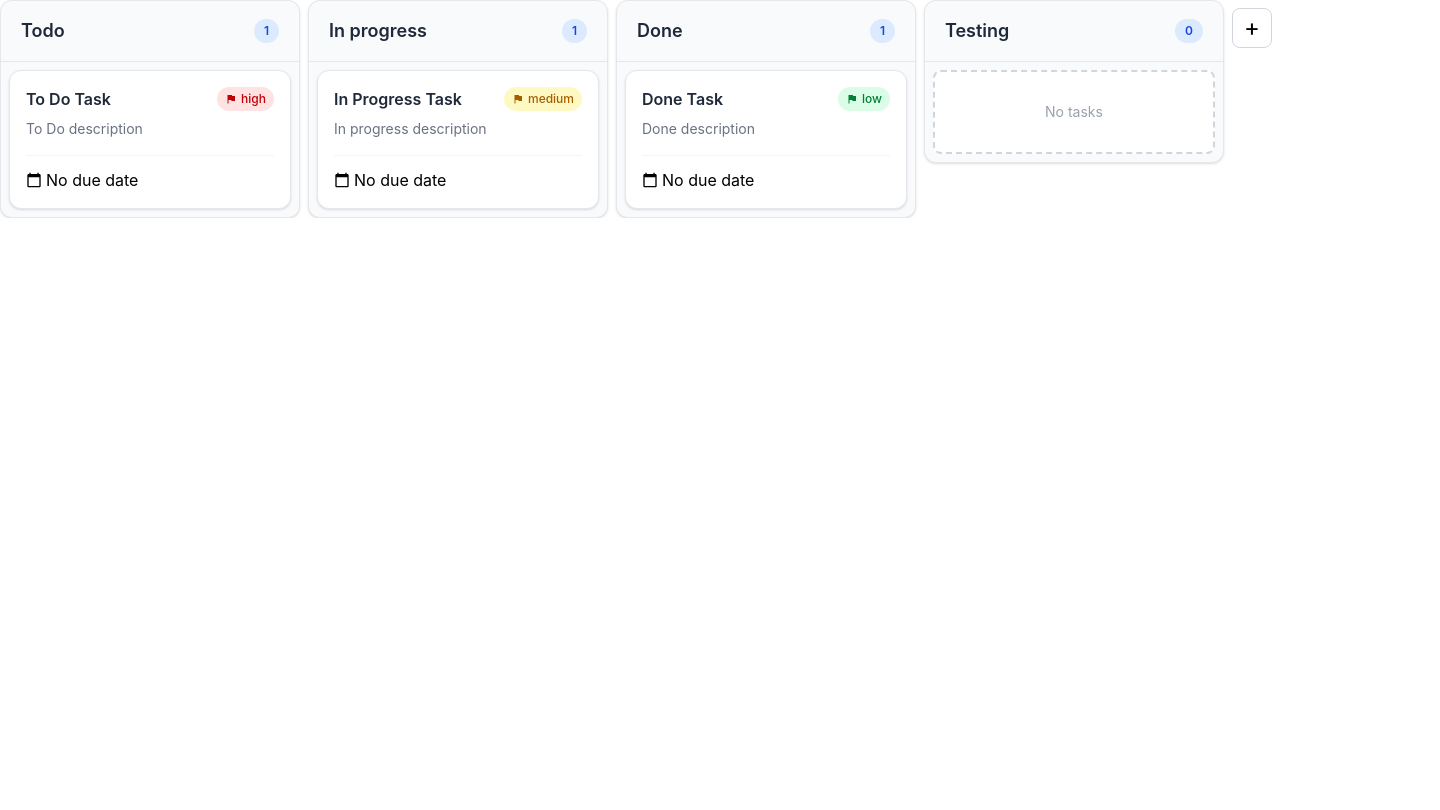
Test case: TaskBoard › column operations › should show update and delete controls after clicking a custom column
Click the heading "Testing" at (977, 31), box top-left (945, 17), bottom-right (1009, 45)
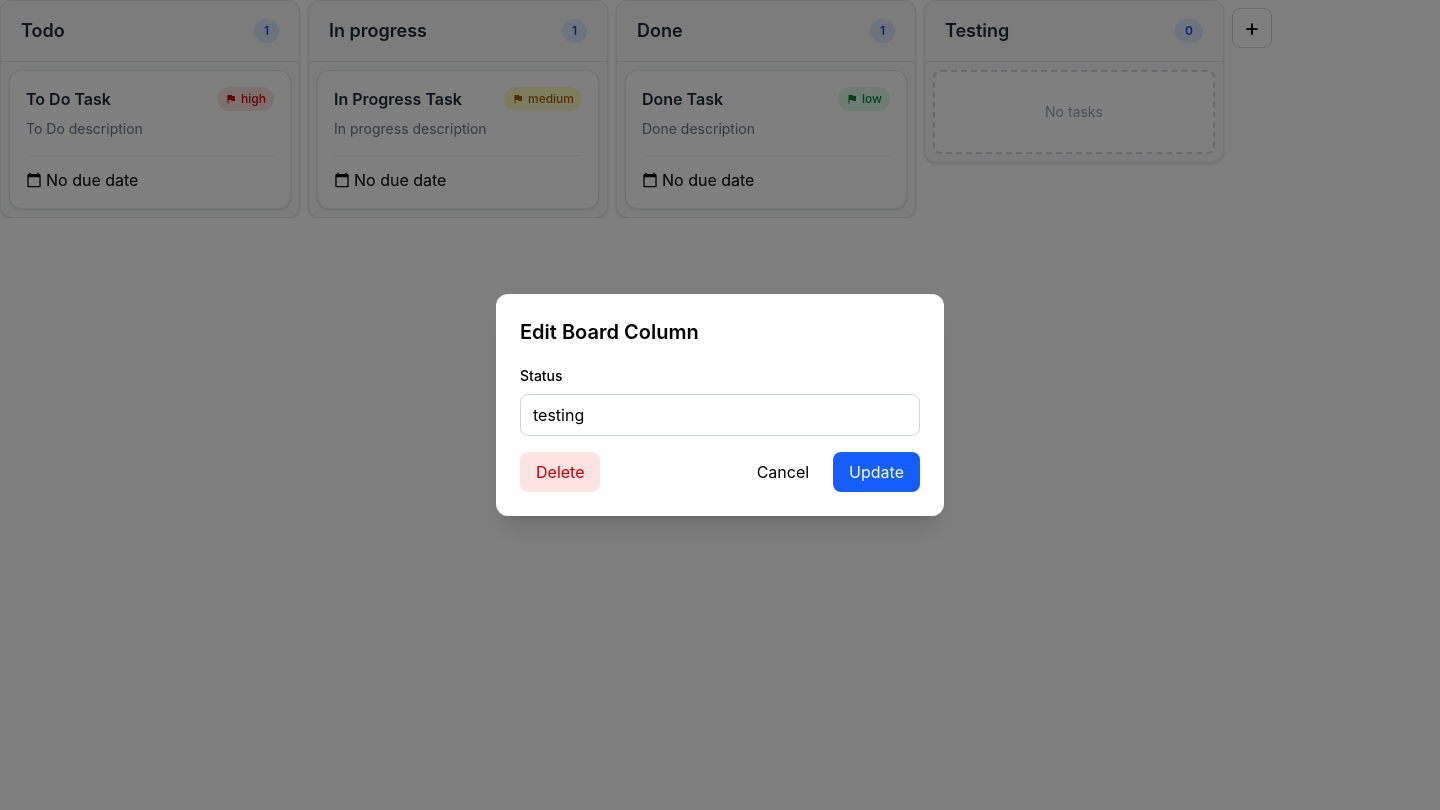
expect the button "Delete" is shown: met, box top-left (520, 452), bottom-right (600, 492)
